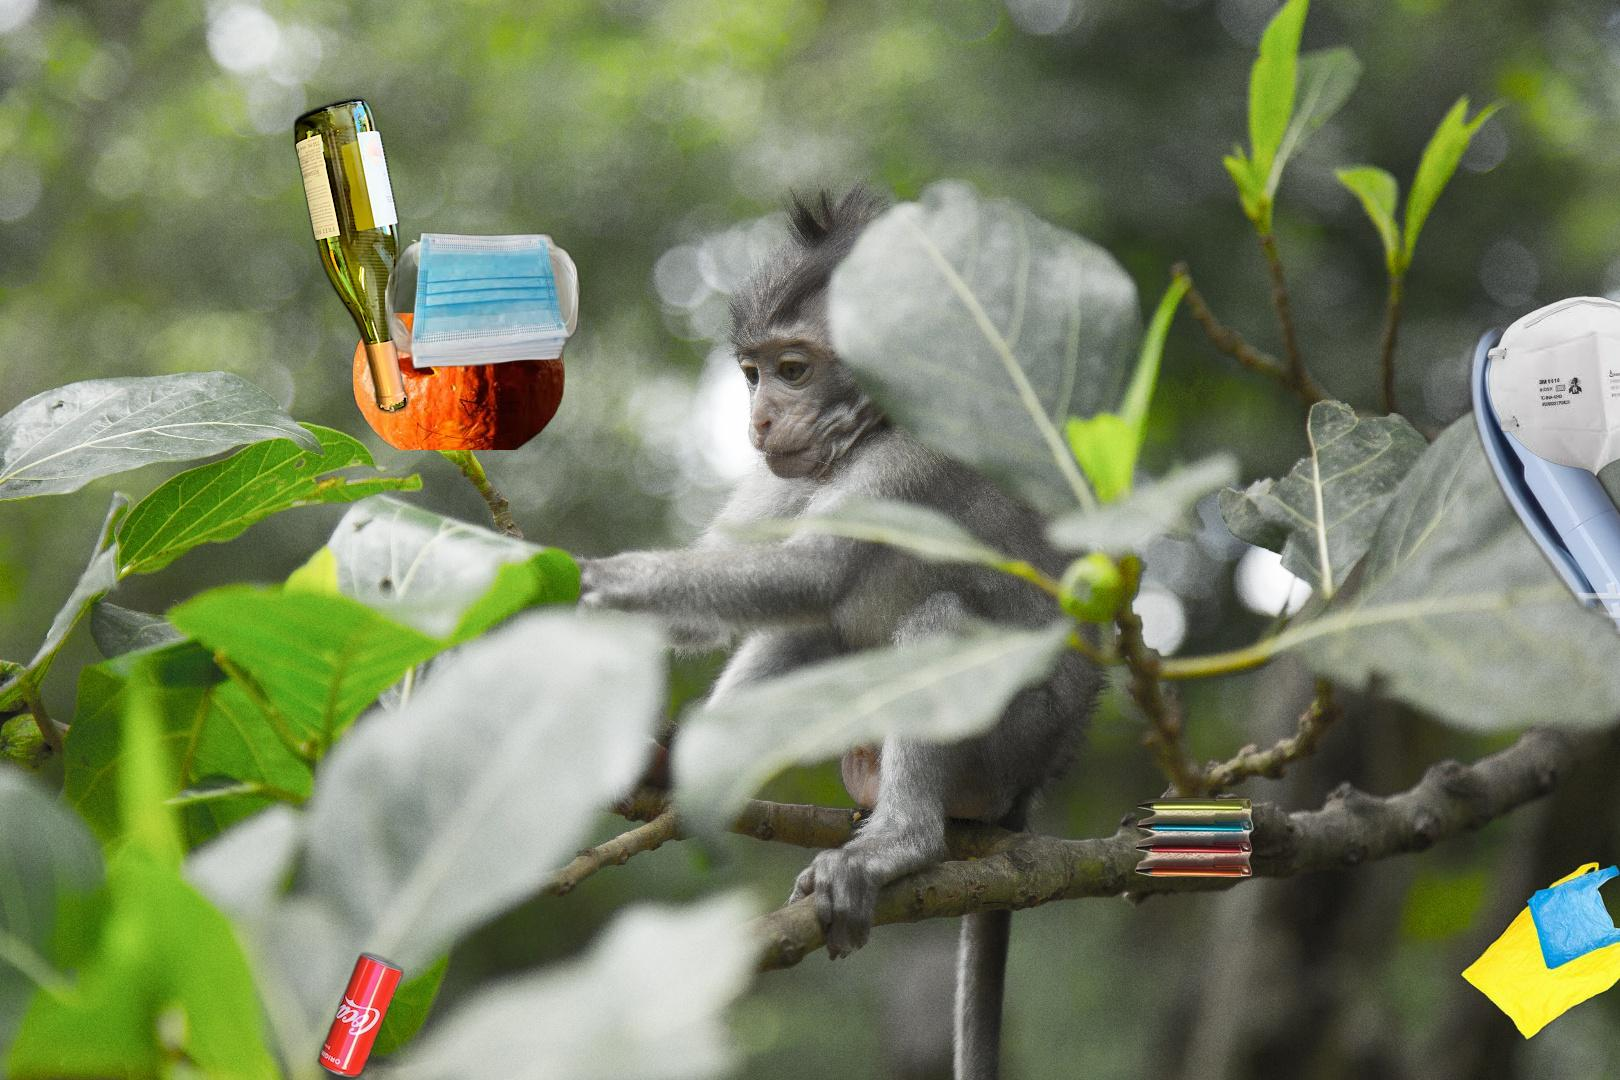biological: (350, 313, 567, 450)
glass: (290, 92, 412, 419)
metal-cans: (313, 947, 712, 1080)
penholder: (1462, 241, 1620, 1080), (1132, 794, 1258, 880)
plastic-bag: (1458, 858, 1620, 1041)
trash: (385, 229, 585, 372), (1484, 292, 1620, 476)
